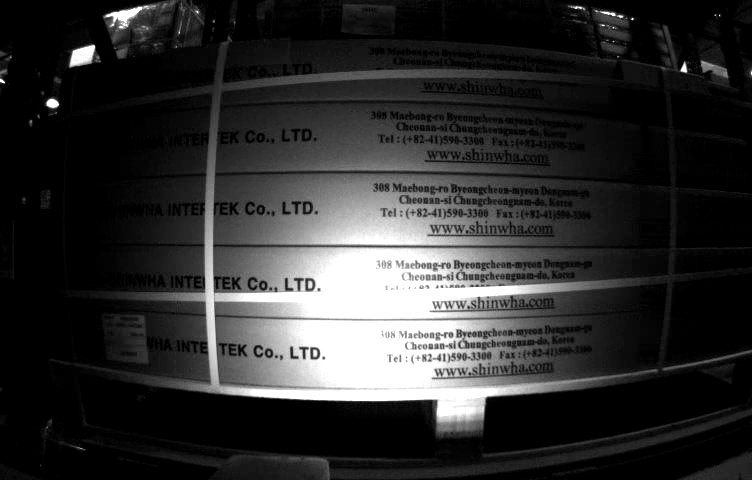True Barcode: (99, 312, 152, 364)
